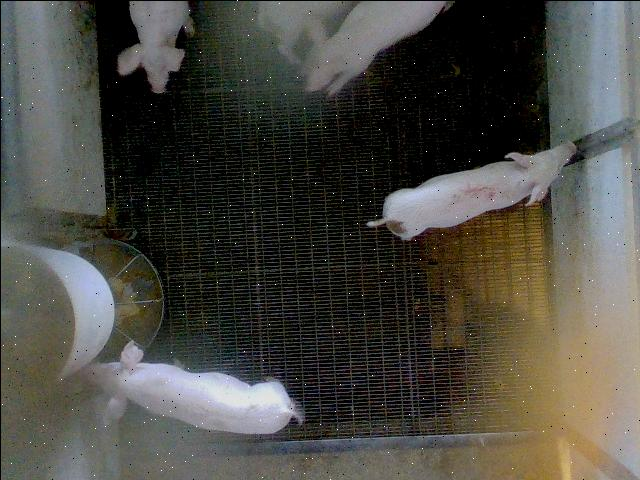pig-5: (366, 141, 575, 239)
